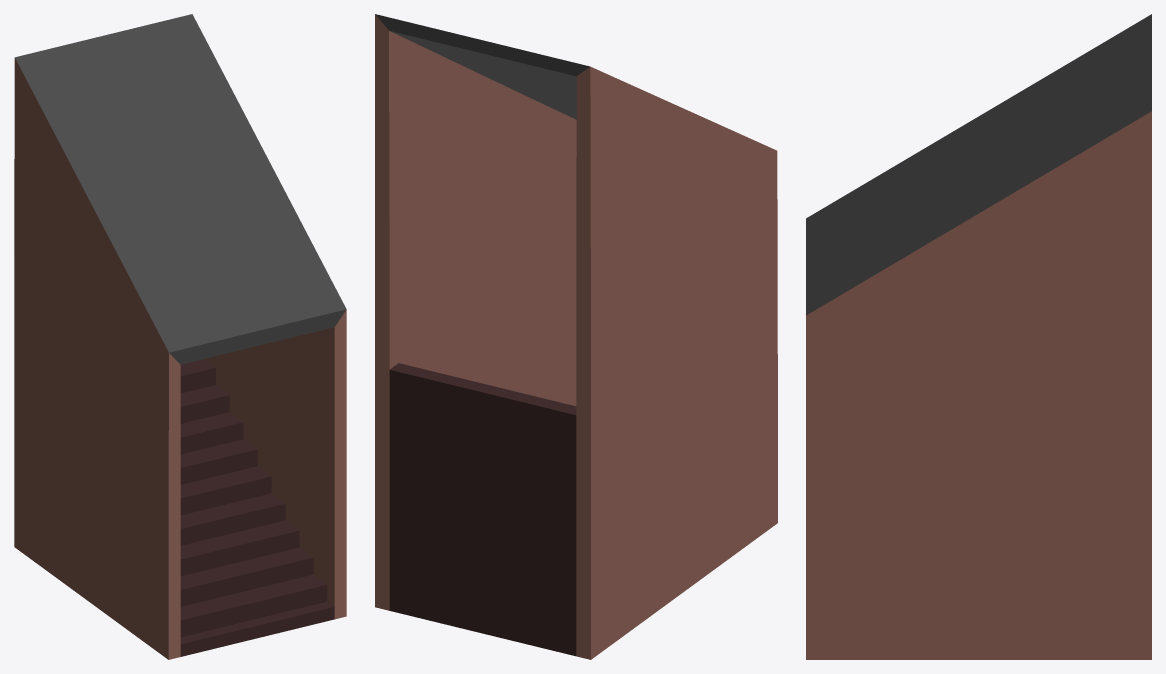
The model's file is T_Escalier.fbx.
3 views of the same model, side by side, from view 1: azimuth 30°, elevation 25°; view 2: azimuth 150°, elevation 25°; view 3: azimuth 270°, elevation 25° (orthographic). The views are drawn at different scales.
Parts seen in each view (by area): view 1: T_Escalier; view 2: T_Escalier; view 3: T_Escalier.
Part boxes in pixels (x1,y1,x2,y2): T_Escalier: [14, 14, 346, 659]; T_Escalier: [375, 14, 777, 659]; T_Escalier: [806, 14, 1151, 659].
Bounding box in the file's own units: 200 × 525 × 300.
